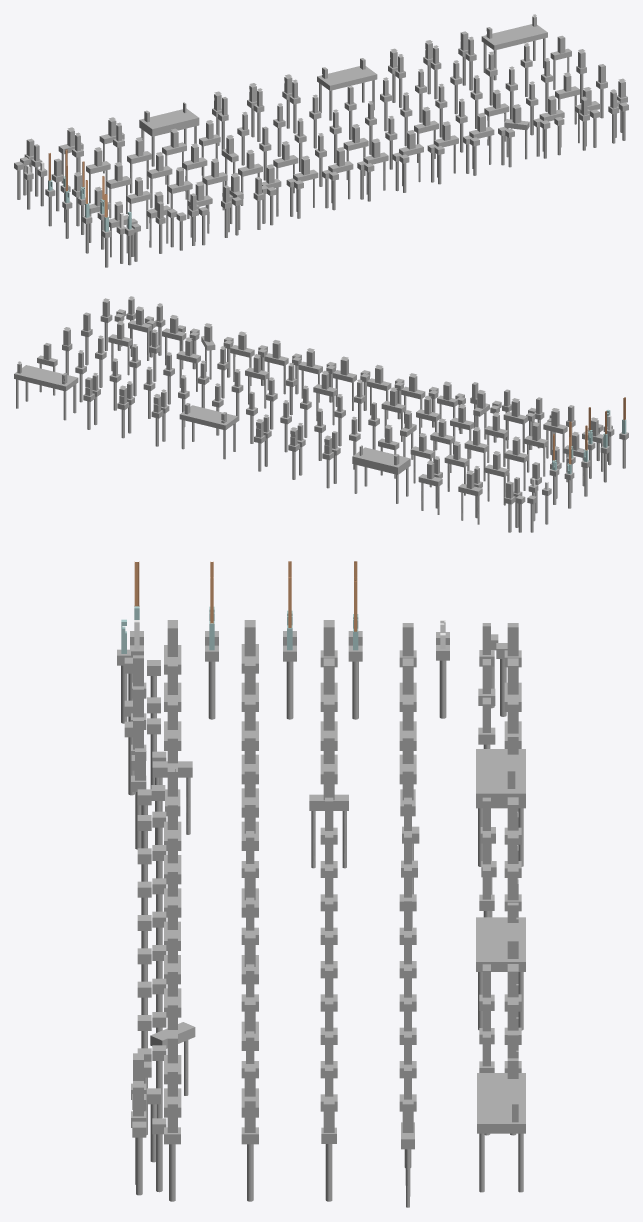
The model's file is detail-support-0-apron.glb.
3 renders of one model, top to bottom at view 1: azimuth 30°, elevation 25°; view 2: azimuth 150°, elevation 25°; view 3: azimuth 270°, elevation 25°, orthographic. The views are drawn at different scales.
Bounding box in the file's own units: 110 × 14.2 × 37.31.
